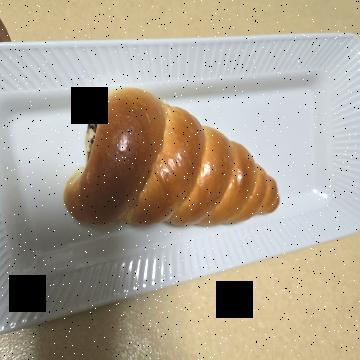cream horn: (72, 58, 248, 298)
